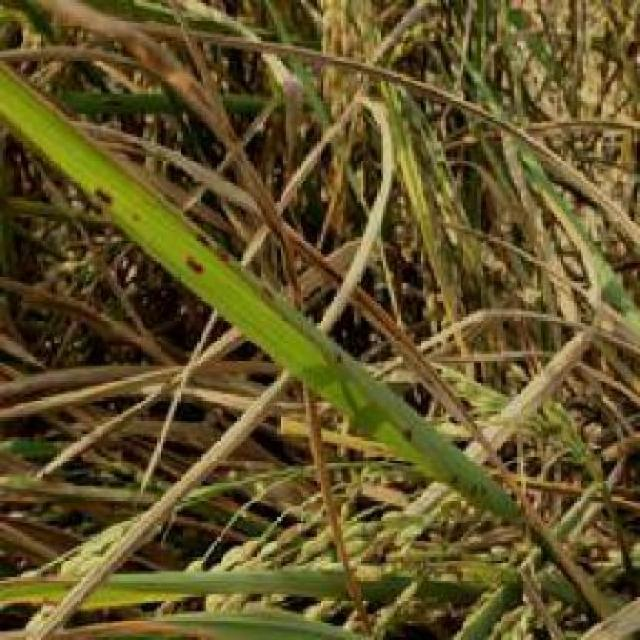Leaf_Blast: (78, 170, 128, 208), (170, 242, 216, 278), (389, 416, 425, 442), (123, 201, 152, 227)
